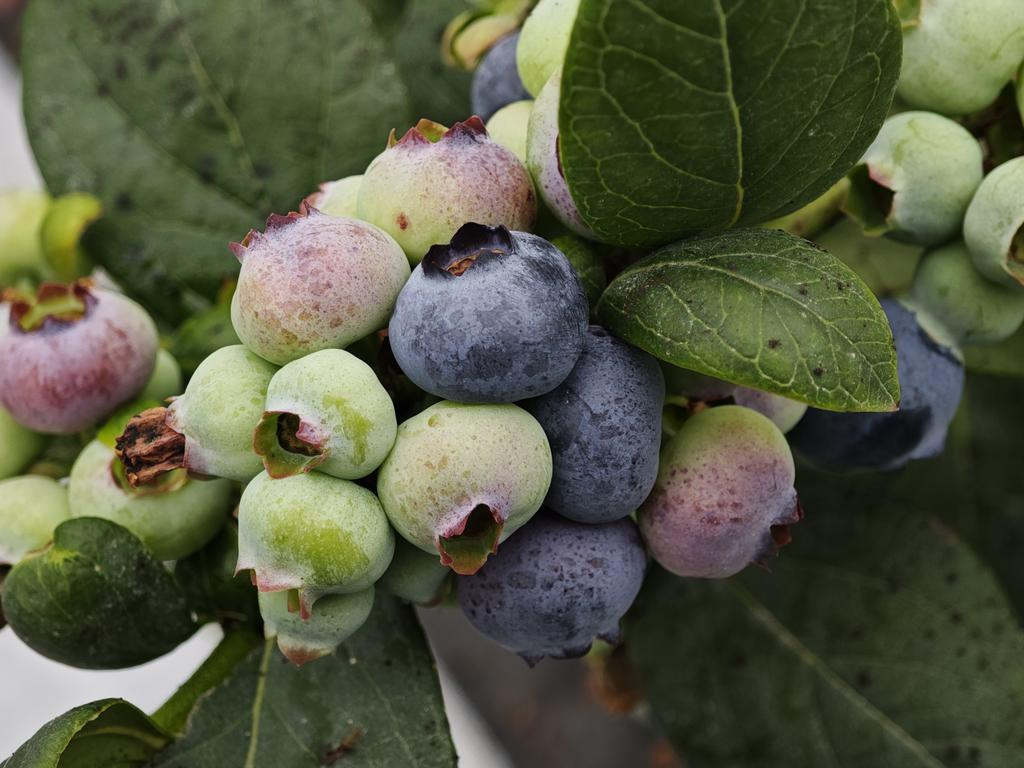RipeBlueBerry: (389, 220, 592, 405)
Semi-RipeBlueBerry: (228, 204, 409, 361), (645, 403, 801, 582), (2, 278, 162, 434)
UnripeBlueBerry: (379, 399, 558, 562)
